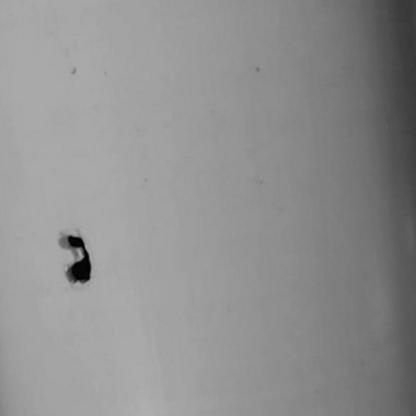kongdong: (57, 224, 100, 289)
